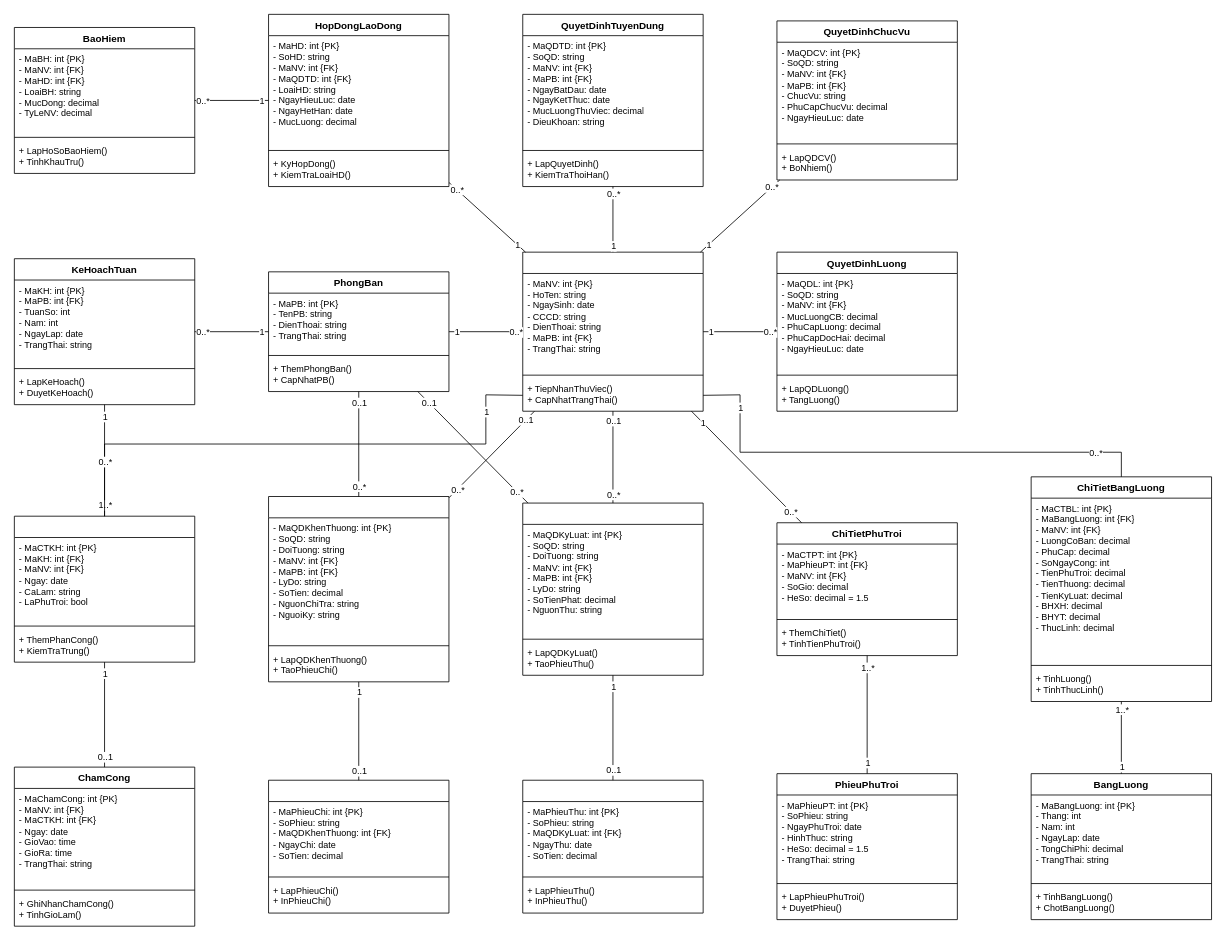
Some shapes in this 1226 by 943 pixel diagram are drawn without their labels. Each missing label, with the box of its shape:
ChiTietKeHoach: (14, 515, 195, 662)
NhanVien: (522, 251, 703, 411)
PhieuChiKhenThuong: (268, 779, 449, 913)
PhieuThuNopPhat: (522, 779, 703, 913)
QuyetDinhKhenThuong: (268, 496, 449, 682)
QuyetDinhKyLuat: (522, 502, 703, 675)
